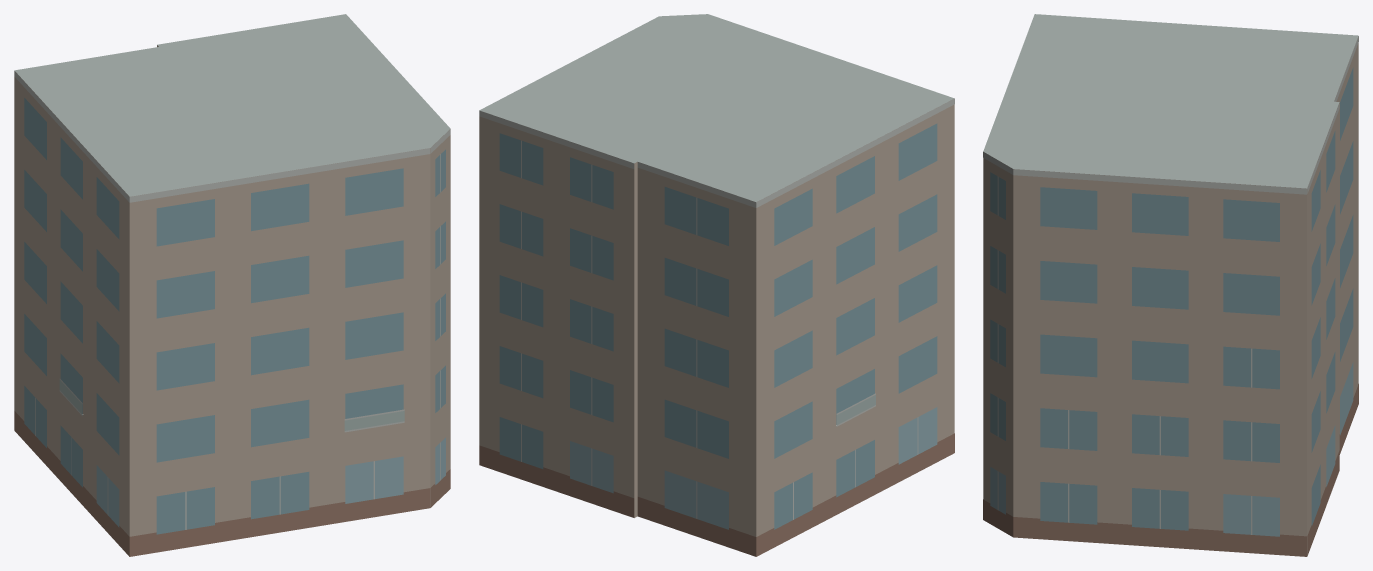
Rendered from survey-upis-32624936.glb.
The picture shows the model from 3 angles, left to right: view 1: azimuth 30°, elevation 25°; view 2: azimuth 150°, elevation 25°; view 3: azimuth 270°, elevation 25°; orthographic projection. The views are drawn at different scales.
Parts seen in each view (by area): view 1: survey-upis-32624936.tmp; view 2: survey-upis-32624936.tmp; view 3: survey-upis-32624936.tmp.
Part boxes in pixels (x1,y1,x2,y2): survey-upis-32624936.tmp: (14,14,450,556); survey-upis-32624936.tmp: (479,14,954,556); survey-upis-32624936.tmp: (983,14,1358,556).
Bounding box in the file's own units: 14.84 × 14.6 × 13.5.
